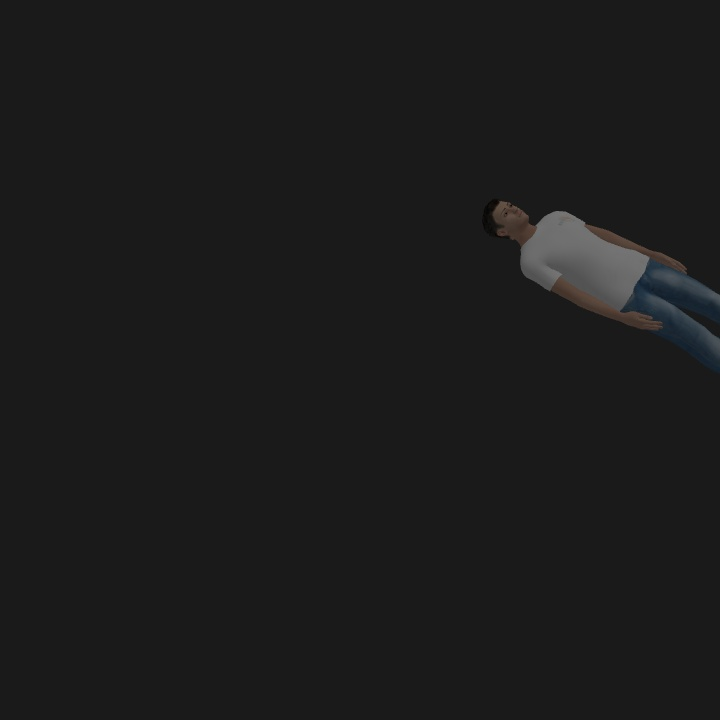victim: (487, 198, 720, 365)
